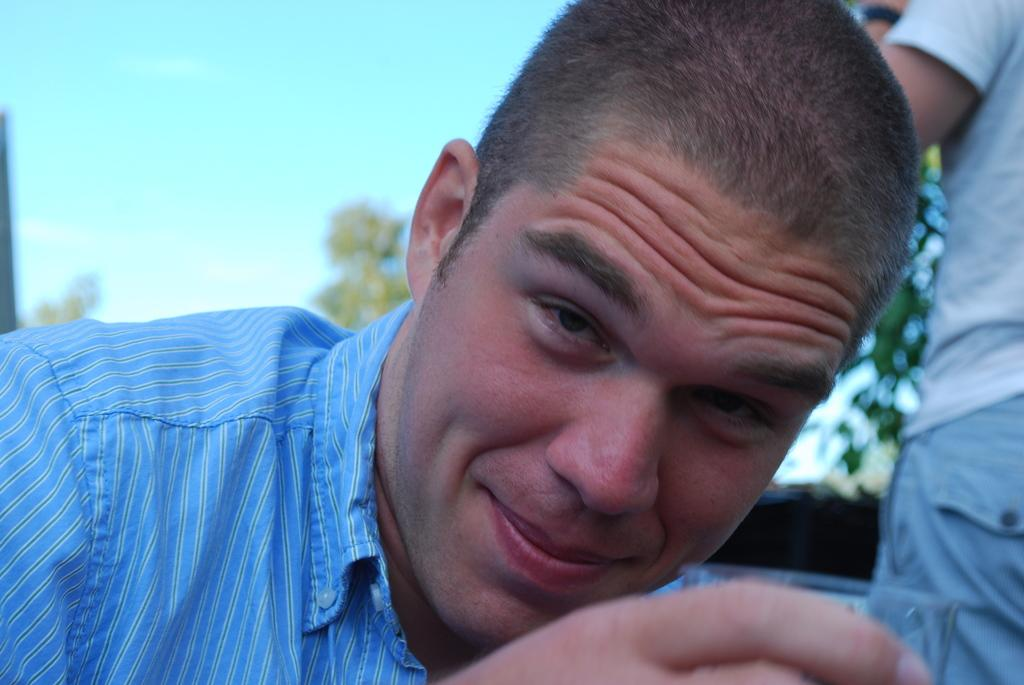Sem Máscara: (382, 140, 875, 646)
